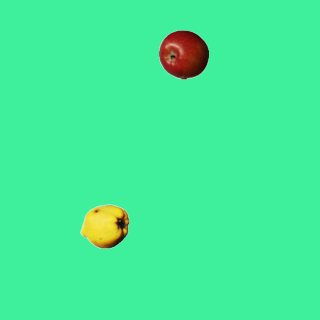Apple Braeburn: (158, 29, 208, 79)
Quince: (79, 201, 129, 251)
